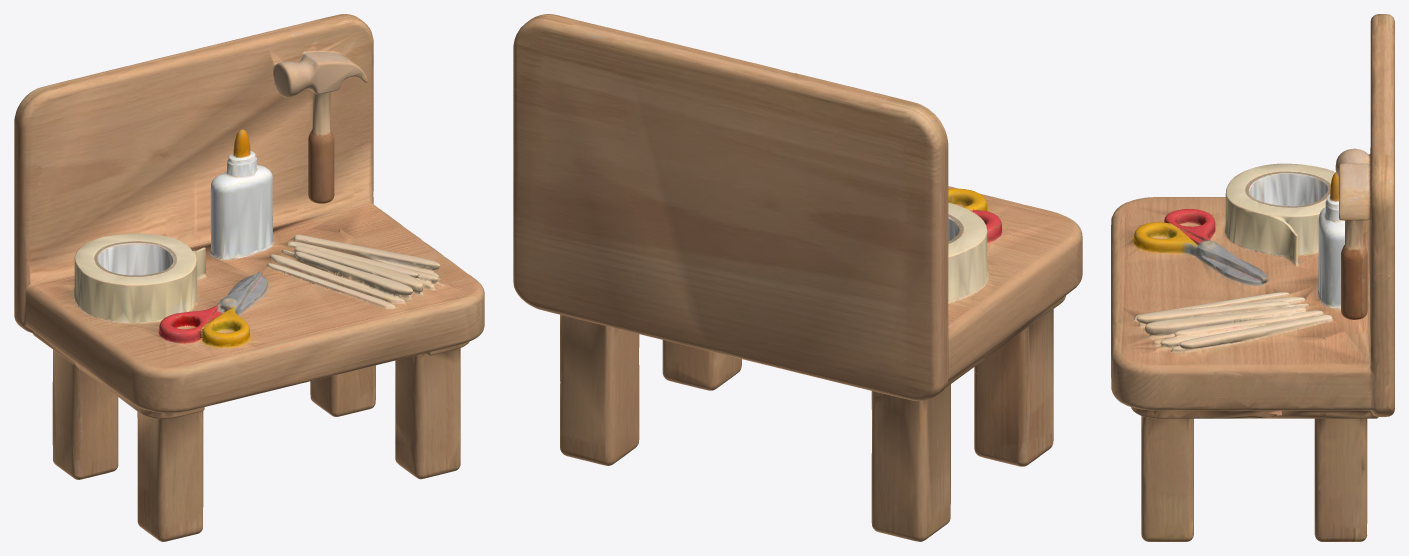
Rendered from workshop.glb.
The picture shows the model from 3 angles, left to right: view 1: azimuth 30°, elevation 25°; view 2: azimuth 150°, elevation 25°; view 3: azimuth 270°, elevation 25°; orthographic projection. The views are drawn at different scales.
Visible parts, largest first — view 1: Mesh_0; view 2: Mesh_0; view 3: Mesh_0.
Boxes of the visible parts, x1,y1,x2,y2 form: Mesh_0: (14,14,484,541); Mesh_0: (513,14,1082,541); Mesh_0: (1111,14,1394,541).
Size of the model in its own units: 1.91 by 1.91 by 1.3.
1 material, 1 textured.
